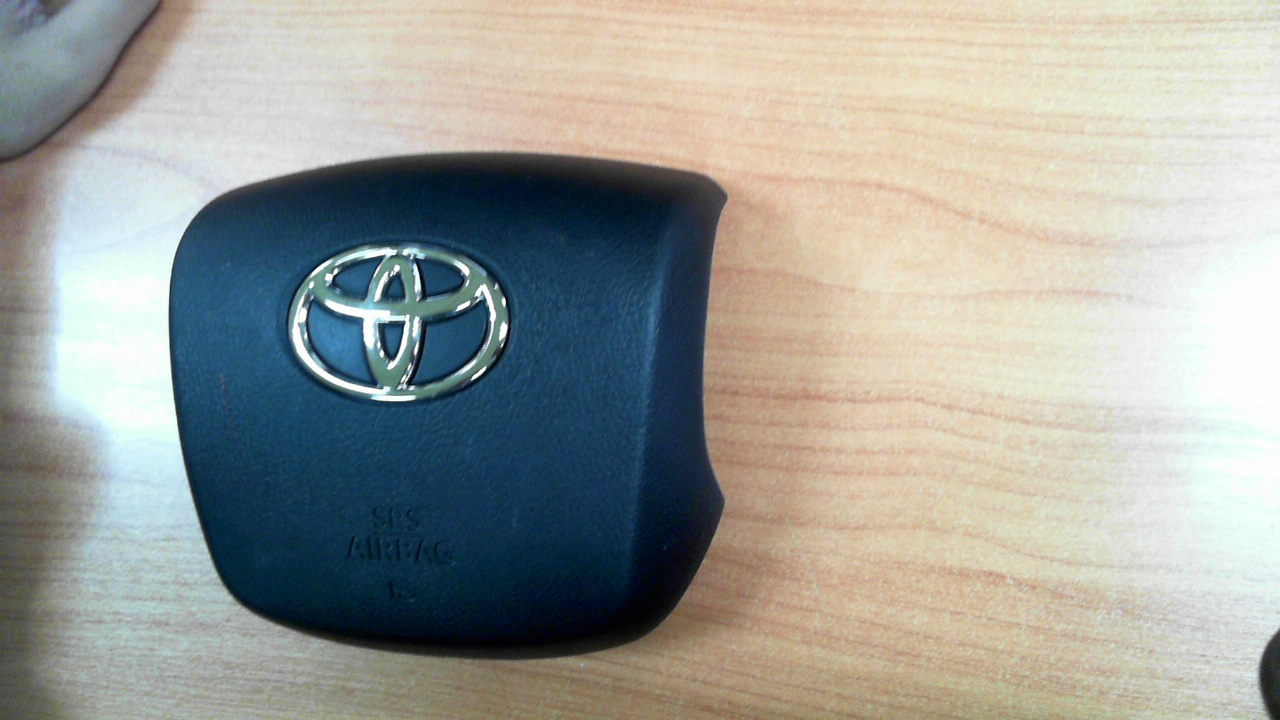Airbag: (167, 152, 730, 660)
Toyota: (287, 241, 512, 403)
